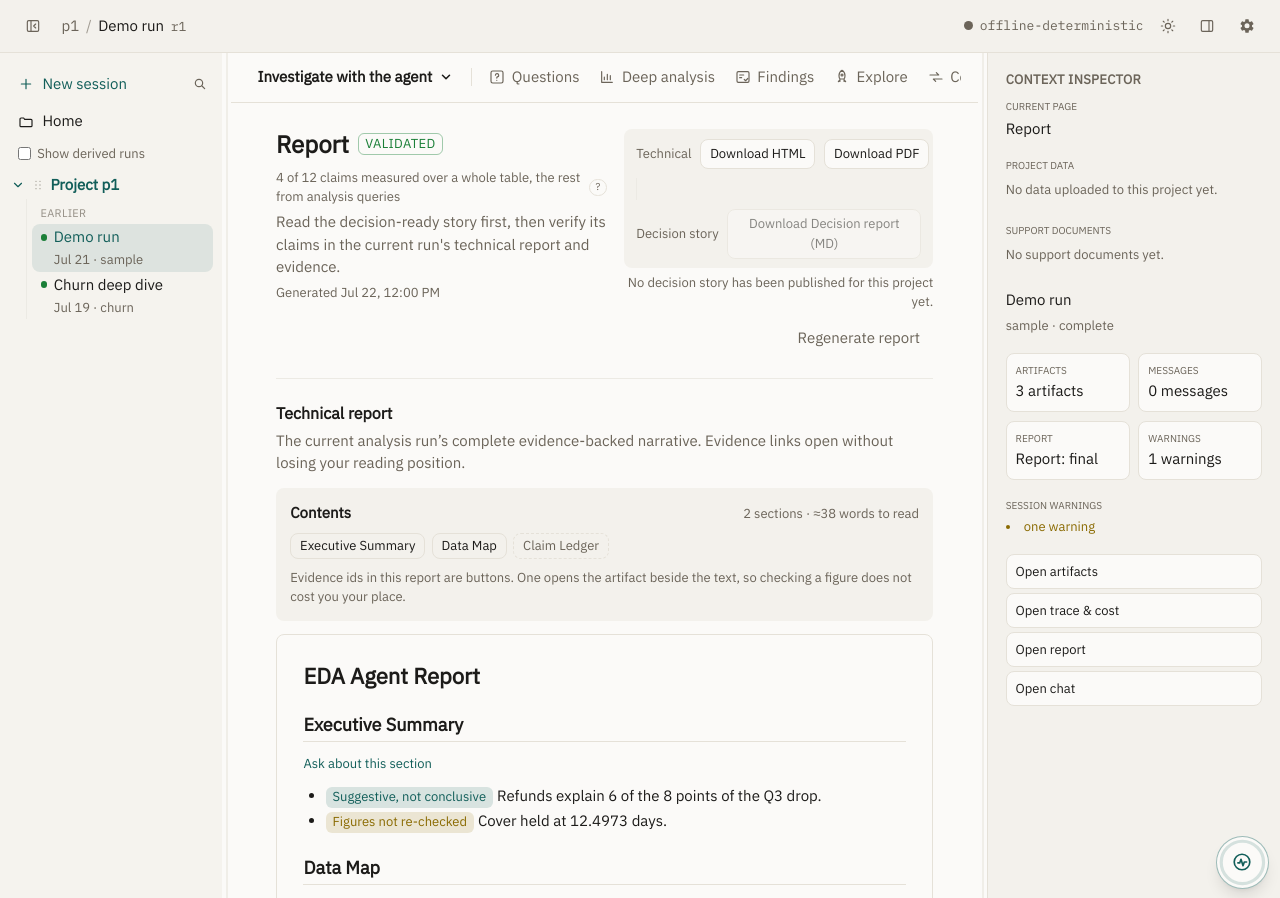
Scenario: Report reading chrome › hoists the evidence mix out of the body and explains it
The width and height of the screenshot is (1280, 898).
Expected: the heading "EDA Agent Report" is shown, [304,661,480,690]
Expected: the text "4 of 12 claims measured over a whole table" is shown, [276,169,580,205]
Click the button named "What is Evidence mix?" at (598, 187), box [589,179,607,196]
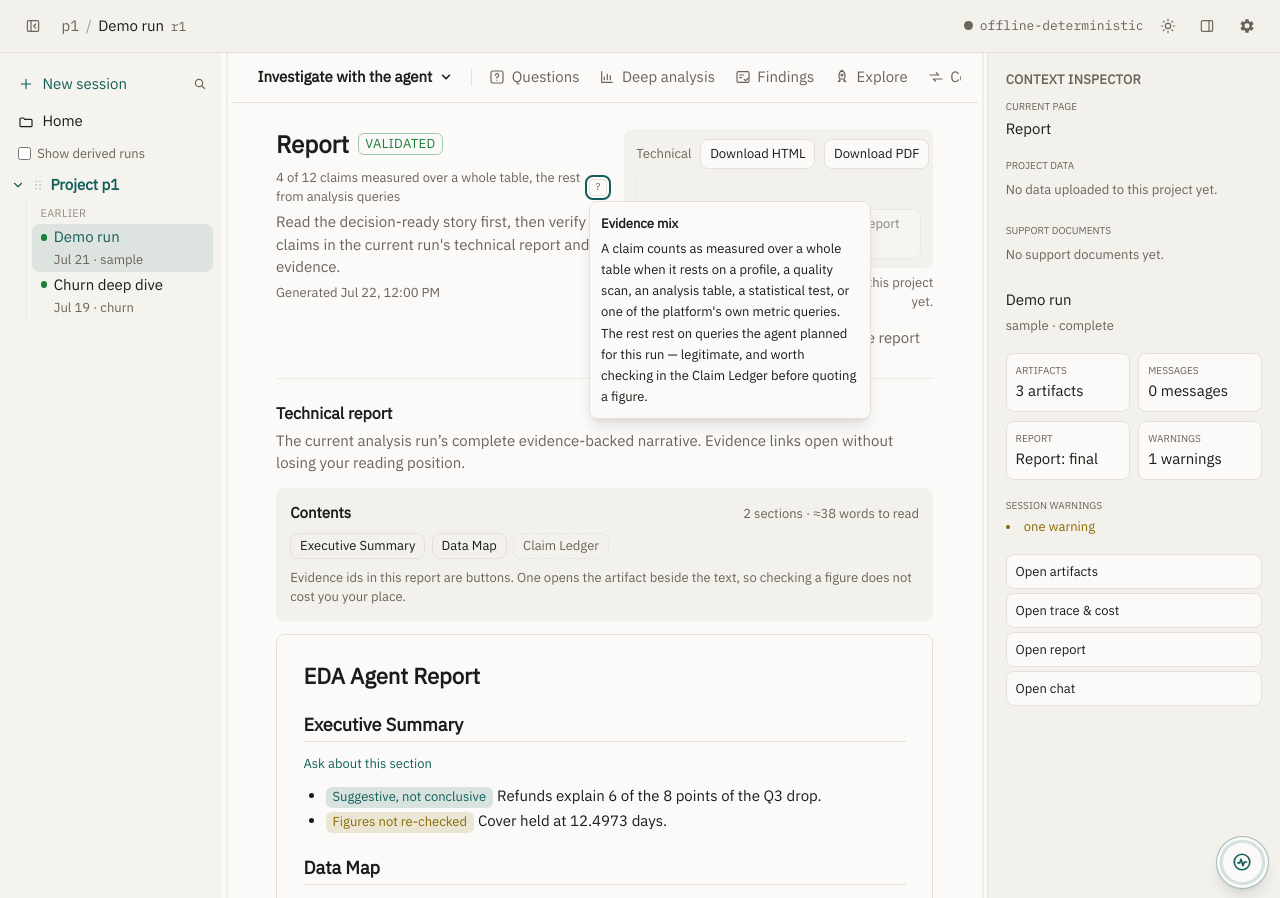
Expected: the element that starts with "Evidence mix" shows "queries the agent planned for this run", [601,240,856,405]
